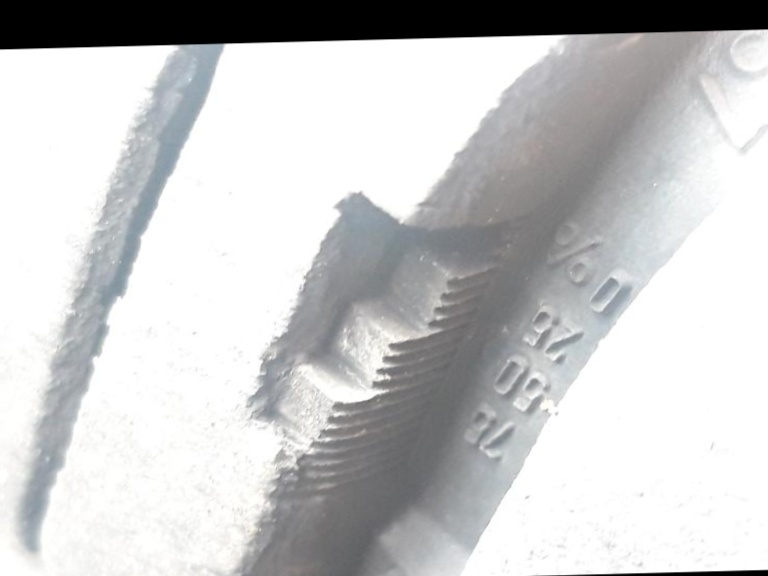temoin:80: (219, 172, 568, 520)
